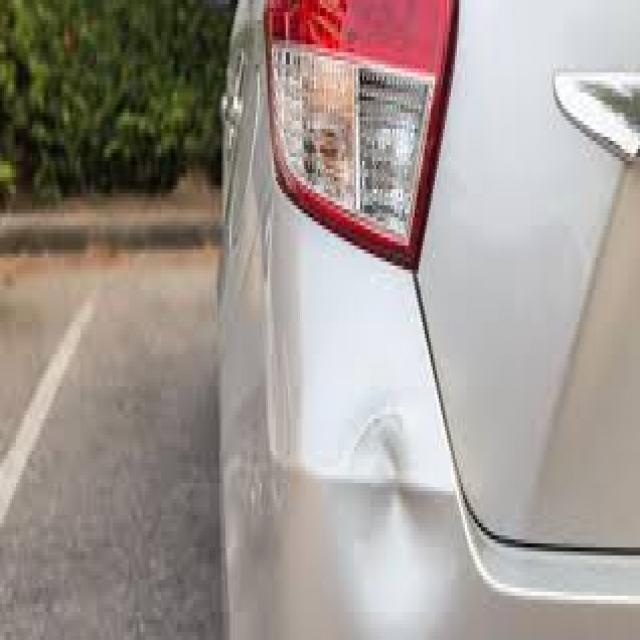car damage: (361, 397, 450, 624)
